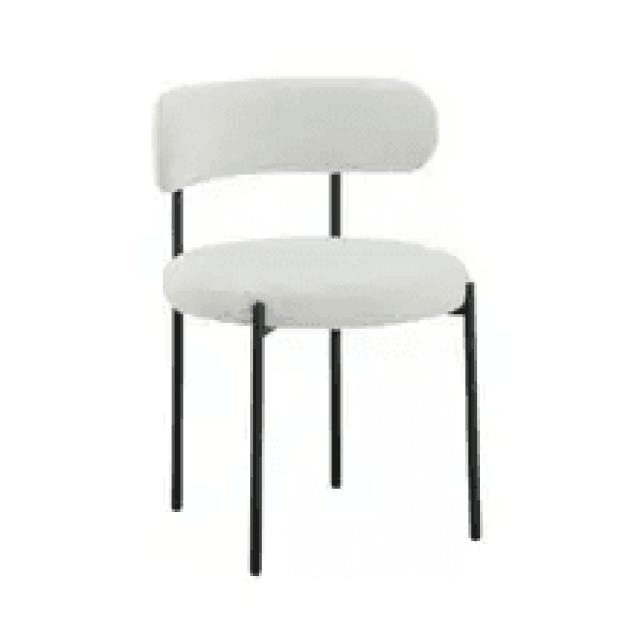chair: (143, 70, 491, 582), (153, 78, 470, 330)
